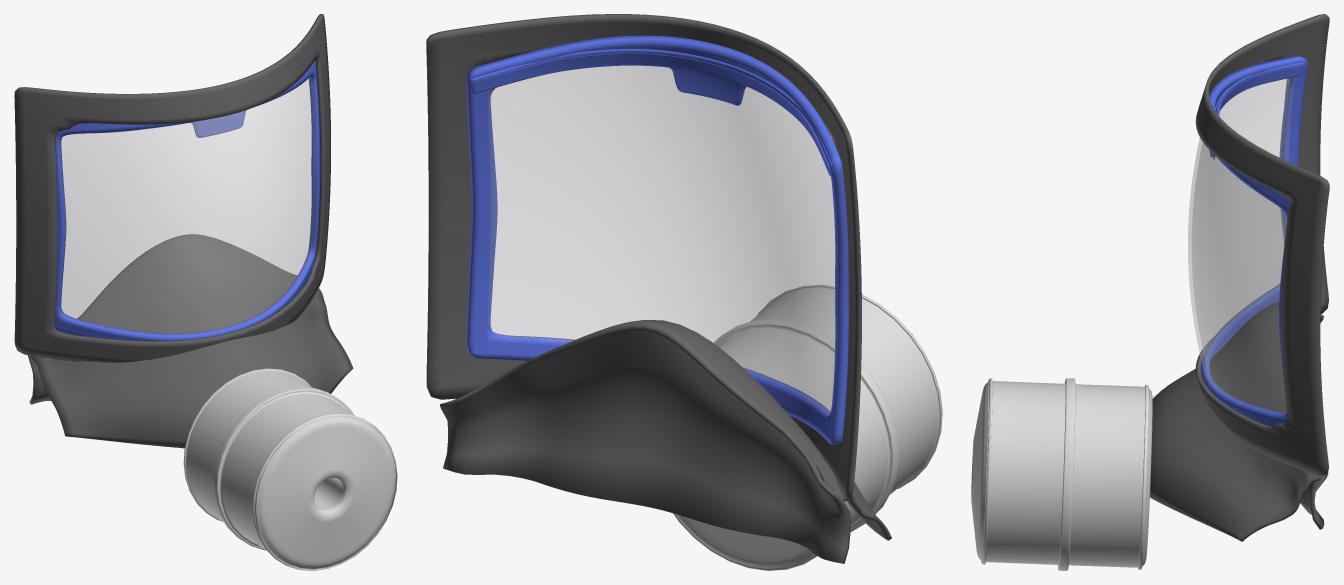
The model's file is GazMaskesi.fbx.
The picture shows the model from 3 angles, left to right: view 1: azimuth 30°, elevation 25°; view 2: azimuth 150°, elevation 25°; view 3: azimuth 270°, elevation 25°; orthographic projection. The views are drawn at different scales.
Parts seen in each view (by area): view 1: Vizör; view 2: Vizör; view 3: Vizör.
Boxes of the visible parts, <box> form: Vizör: <box>14,14,397,570</box>; Vizör: <box>426,14,942,570</box>; Vizör: <box>971,14,1329,570</box>.
Size of the model in its own units: 53.54 by 67.93 by 47.1.
